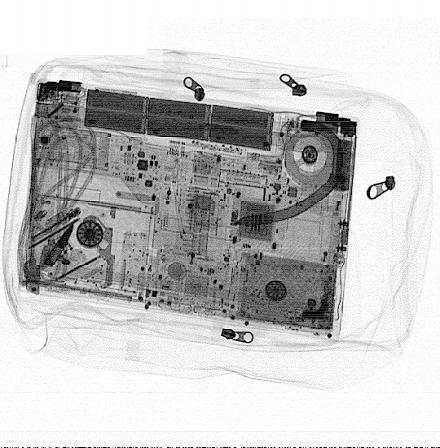Bullet: (44, 219, 75, 265)
